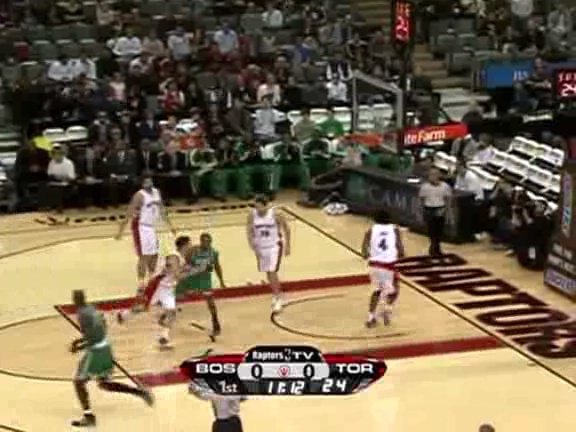person: (181, 234, 215, 315), (180, 234, 214, 315), (182, 234, 216, 315), (181, 233, 215, 314), (181, 235, 215, 316)
target_negative: (113, 215, 317, 345), (50, 245, 535, 296), (407, 312, 432, 411), (268, 412, 535, 420), (254, 388, 332, 405)
